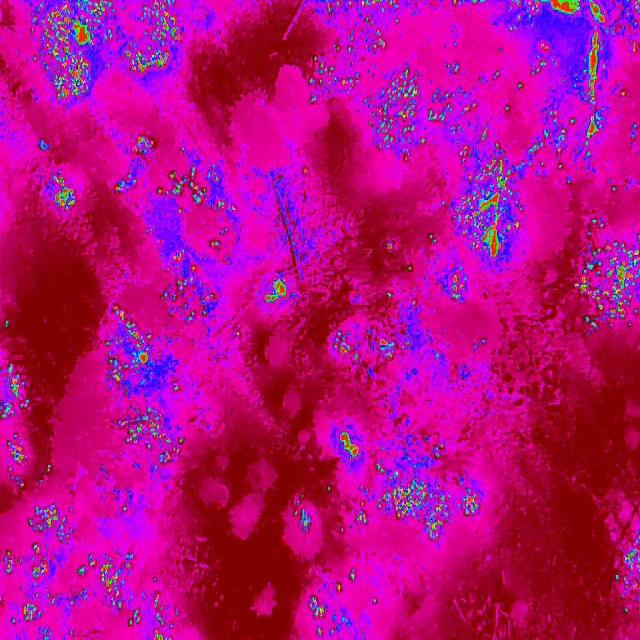fire: (298, 1, 460, 160), (0, 499, 175, 640), (446, 48, 554, 264), (292, 423, 478, 542), (506, 0, 640, 149), (21, 0, 185, 108), (100, 302, 193, 480), (551, 152, 640, 336), (158, 234, 238, 324), (298, 568, 384, 640), (0, 317, 33, 495), (332, 327, 399, 371), (154, 168, 214, 212), (608, 540, 640, 616), (42, 164, 78, 226), (256, 272, 290, 313), (122, 131, 156, 161), (102, 178, 137, 200)
